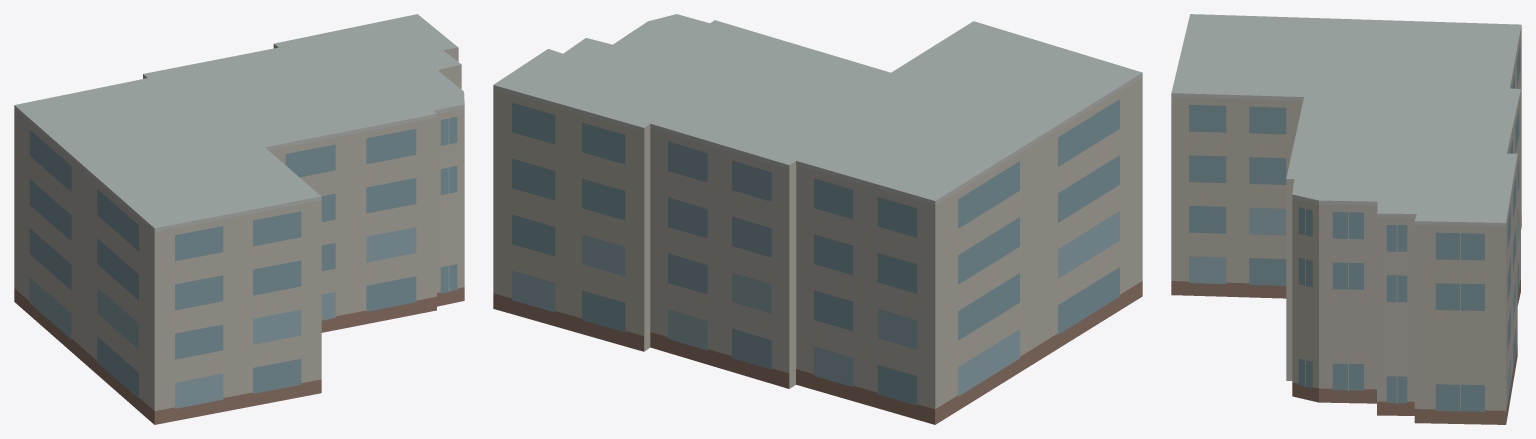
Rendered from survey-upis-32750928.glb.
3 renders of one model, left to right at view 1: azimuth 30°, elevation 25°; view 2: azimuth 150°, elevation 25°; view 3: azimuth 270°, elevation 25°, orthographic. The views are drawn at different scales.
Parts seen in each view (by area): view 1: survey-upis-32750928.tmp; view 2: survey-upis-32750928.tmp; view 3: survey-upis-32750928.tmp.
Boxes of the visible parts, bbox=[...] form: survey-upis-32750928.tmp: bbox=[14, 14, 464, 424]; survey-upis-32750928.tmp: bbox=[493, 14, 1142, 424]; survey-upis-32750928.tmp: bbox=[1171, 14, 1521, 424].
Size of the model in its own units: 27.96 by 12.6 by 19.81.
